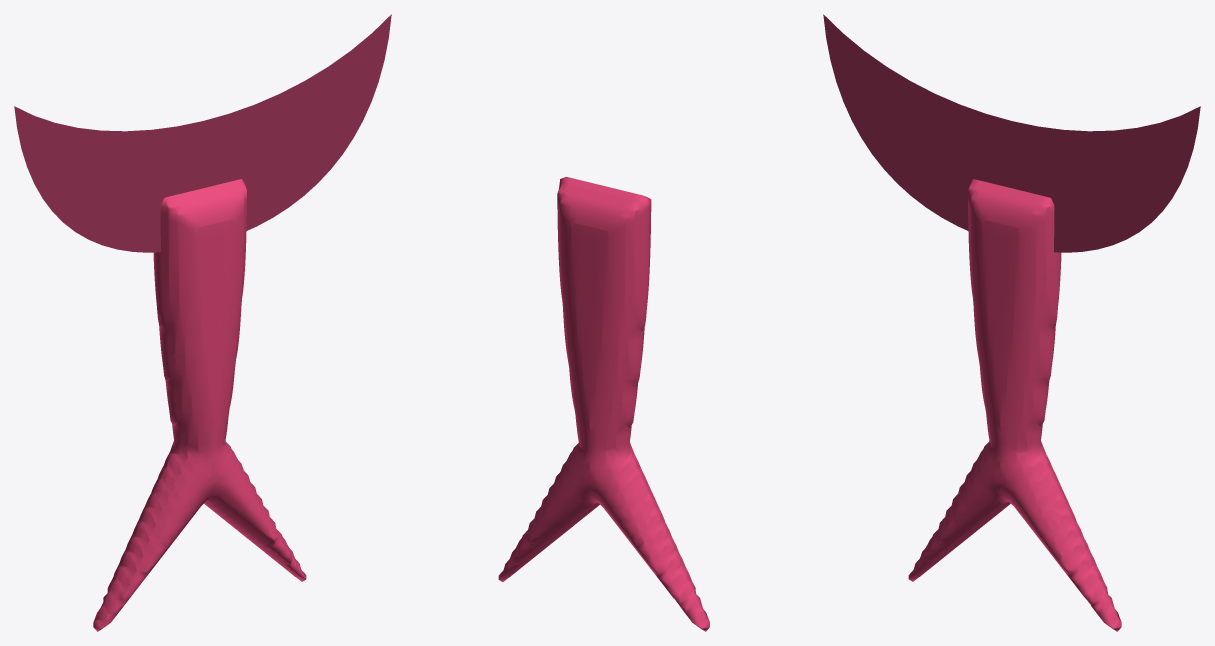
File: mouth-tongue.glb
3 renders of one model, left to right at view 1: azimuth 30°, elevation 25°; view 2: azimuth 150°, elevation 25°; view 3: azimuth 330°, elevation 25°, orthographic.
Visible parts, largest first — view 1: mouth_0_flat, mouth_1_tongue; view 2: mouth_1_tongue; view 3: mouth_0_flat, mouth_1_tongue.
Boxes of the visible parts, x1,y1,x2,y2 form: mouth_0_flat: (14,14,391,252); mouth_1_tongue: (93,179,306,631); mouth_1_tongue: (498,176,709,631); mouth_0_flat: (823,14,1200,252); mouth_1_tongue: (908,179,1121,631).
Bounding box in the file's own units: 0.272 × 0.3782 × 0.0374.
